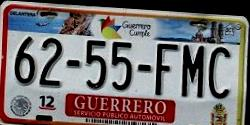License_Plate: (0, 4, 248, 125)
